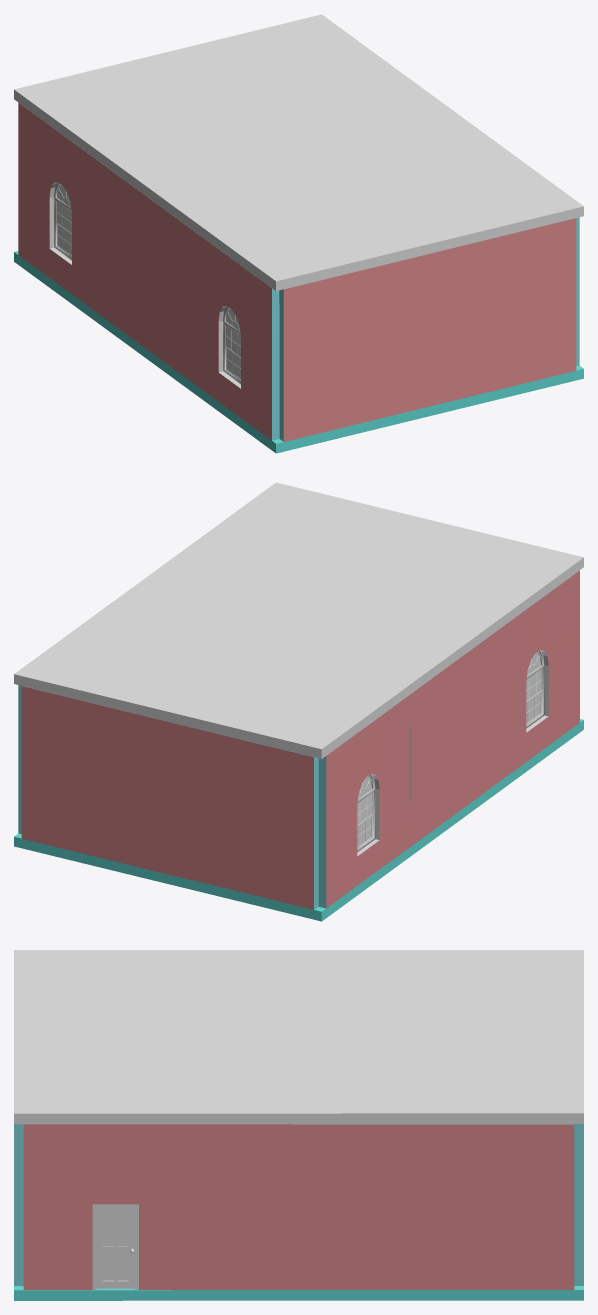
File: mdl_Kuche.fbx
3 renders of one model, top to bottom at view 1: azimuth 30°, elevation 25°; view 2: azimuth 150°, elevation 25°; view 3: azimuth 270°, elevation 25°, orthographic. The views are drawn at different scales.
Parts seen in each view (by area): view 1: DoorFrame_01.001; view 2: DoorFrame_01.001; view 3: DoorFrame_01.001, Door_01.002.
Boxes of the visible parts, x1,y1,x2,y2 form: DoorFrame_01.001: (14,14,583,453); DoorFrame_01.001: (14,482,583,921); DoorFrame_01.001: (14,950,583,1300); Door_01.002: (96,1207,134,1288).
Bounding box in the file's own units: 634 × 338 × 933.
